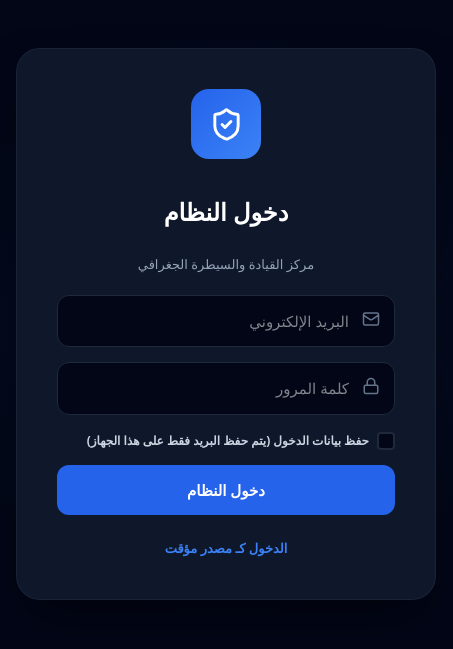
Test: AuthPage › shows translated auth error for invalid credentials
The image size is (453, 649).
Step 1. Type "wrong@example.com" into the field with placeholder "البريد الإلكتروني" → (226, 321), box [57,294,395,347]
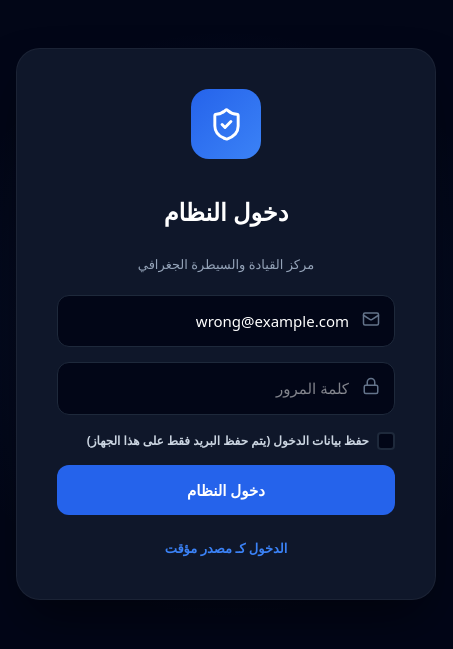
Step 2. Type "wrong-pass" into the password field with placeholder "كلمة المرور" → (226, 388), box [57,362,395,414]
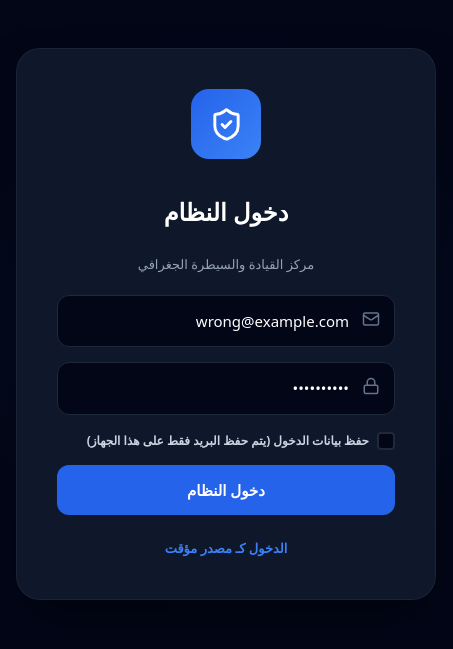
Step 3. Click the button "دخول النظام" → (226, 490), box [57,464,395,515]
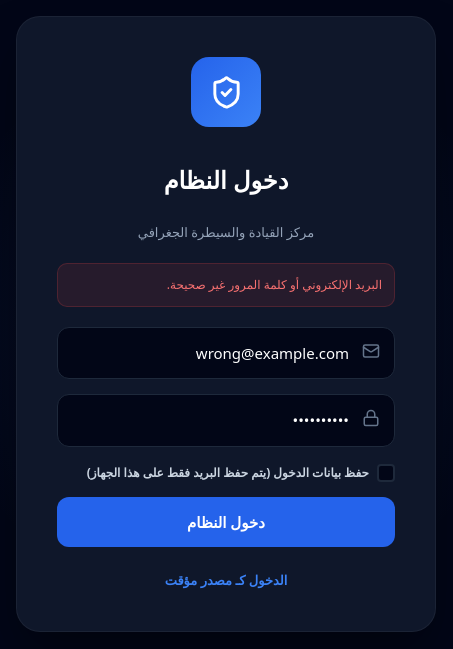
Expected: the message reads "البريد الإلكتروني أو كلمة المرور غير صحيحة.", [167,276,382,292]
